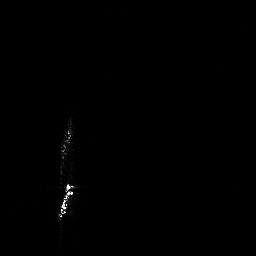ship: (57, 181, 74, 217)
